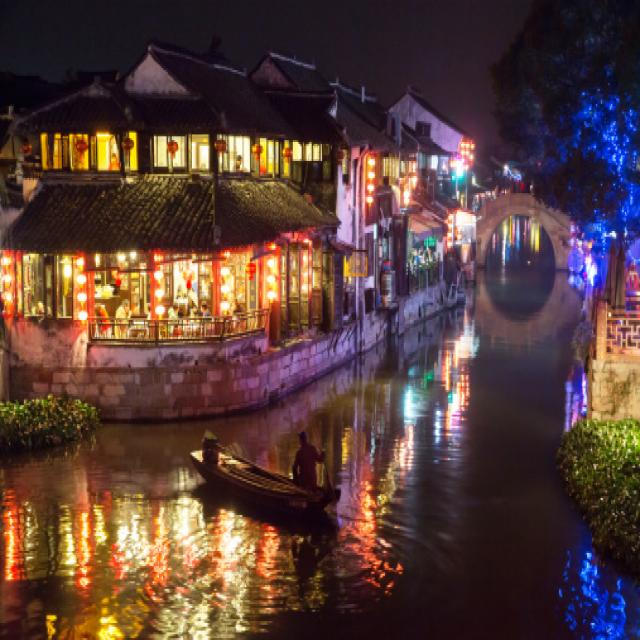Boat: (176, 433, 346, 546)
